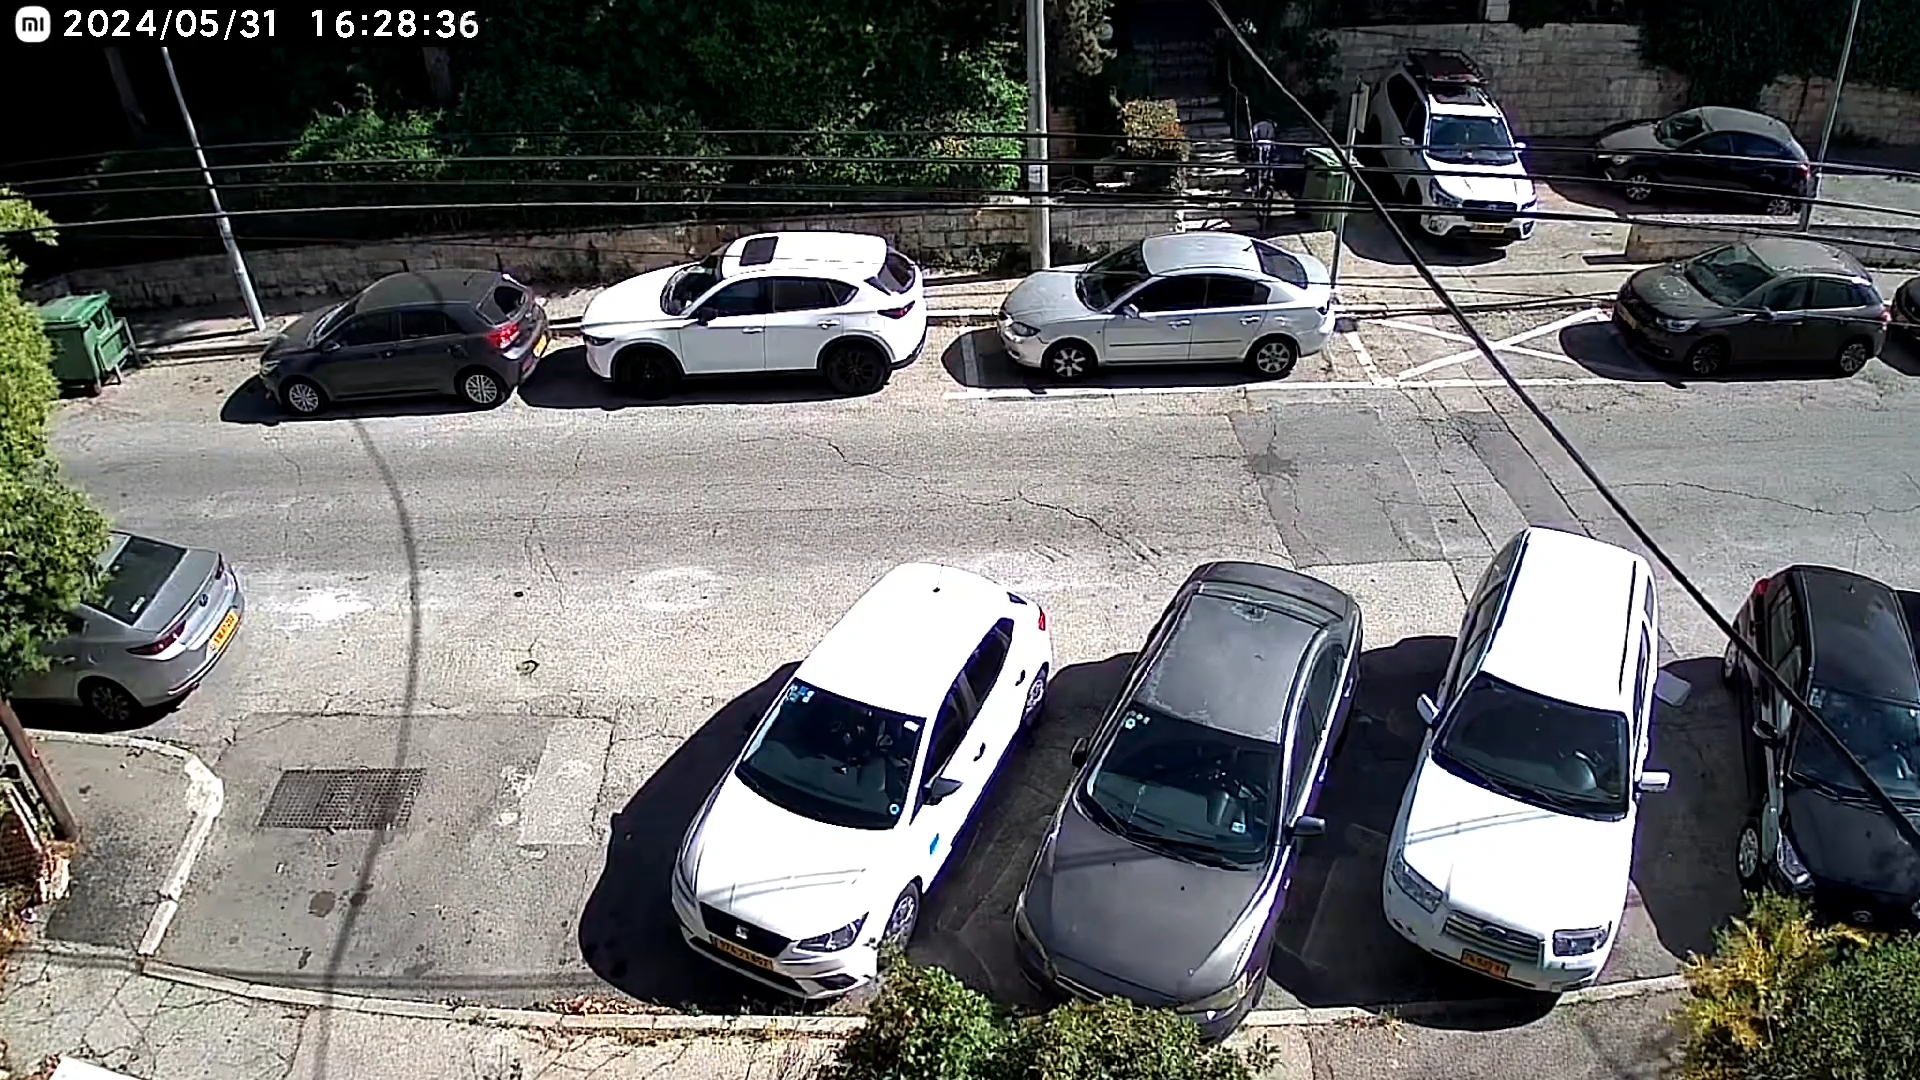empty: (1, 364, 476, 501)
vertical: (1021, 659, 1422, 840)
